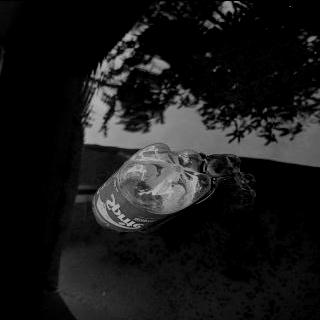bottle: (90, 138, 214, 232)
